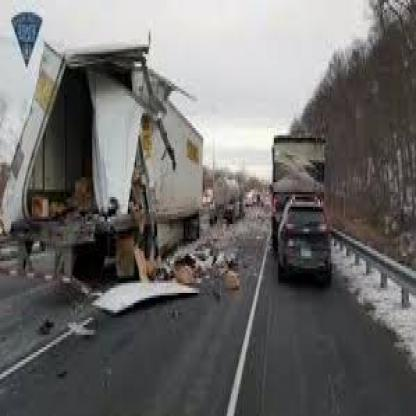accident: (5, 27, 205, 275)
